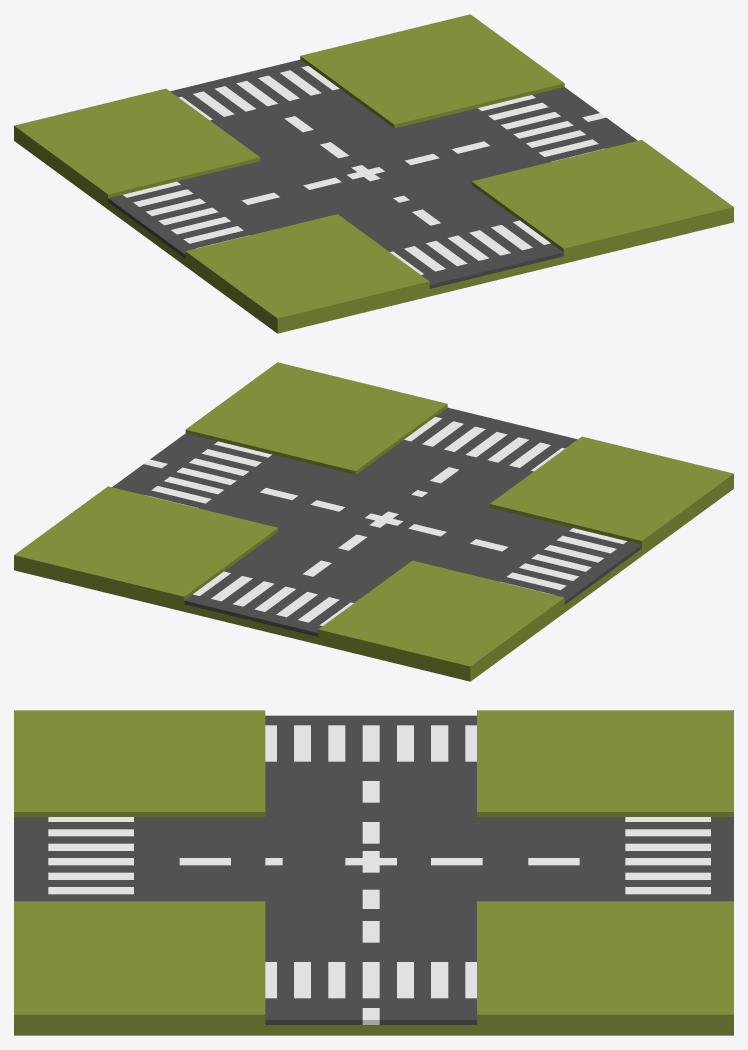
The model's file is map v1.0-35.obj.
3 renders of one model, top to bottom at view 1: azimuth 30°, elevation 25°; view 2: azimuth 150°, elevation 25°; view 3: azimuth 270°, elevation 25°, orthographic. The views are drawn at different scales.
Size of the model in its own units: 12.6 by 0.4 by 12.6.
Materials: 1 (1 with a texture image).
